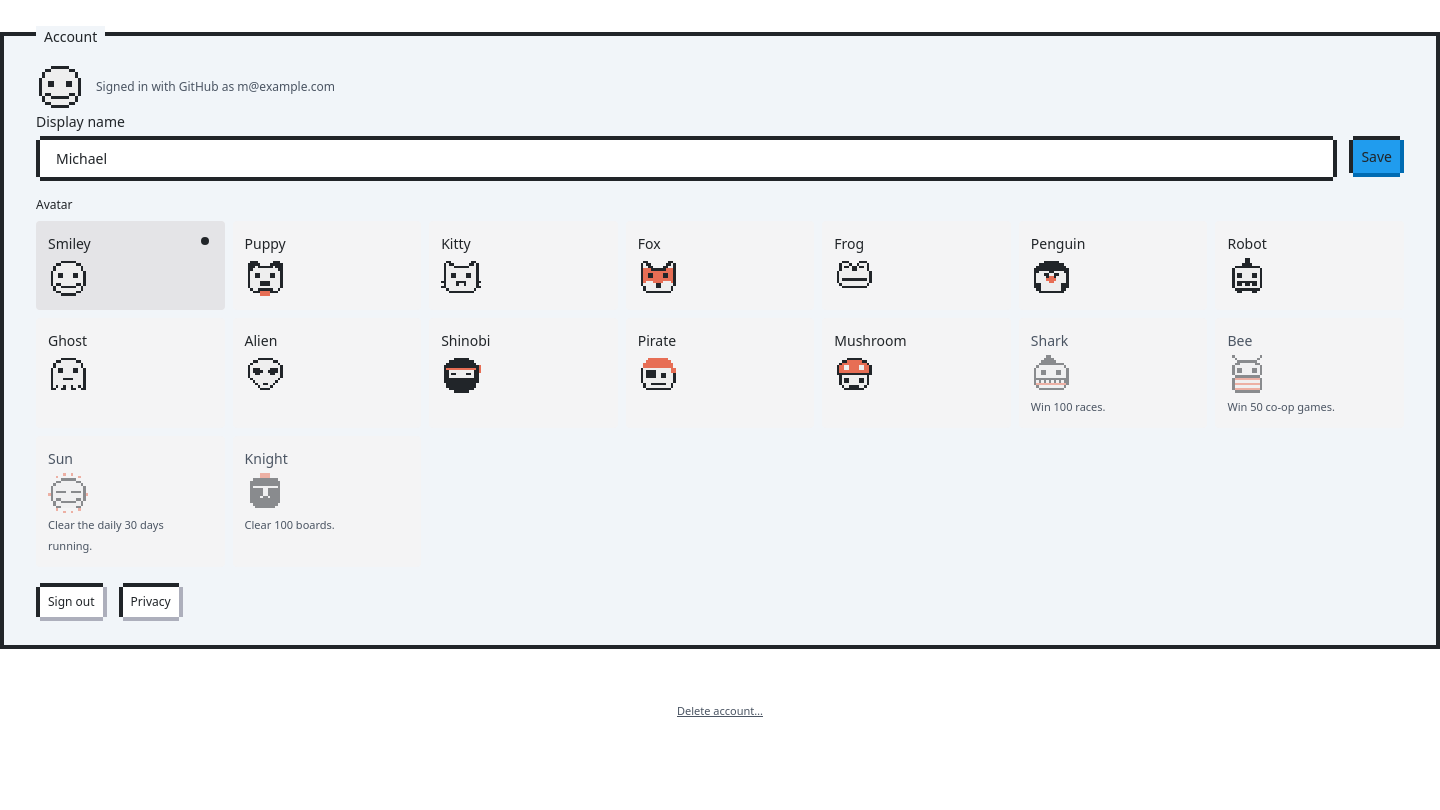
Scenario: surfaces a refused rename without closing anything
The width and height of the screenshot is (1440, 810).
Expected: the field named "Display name" is shown, [40,140,1333,177]
Click the button "Save": [1377, 156] box [1353,140,1400,173]
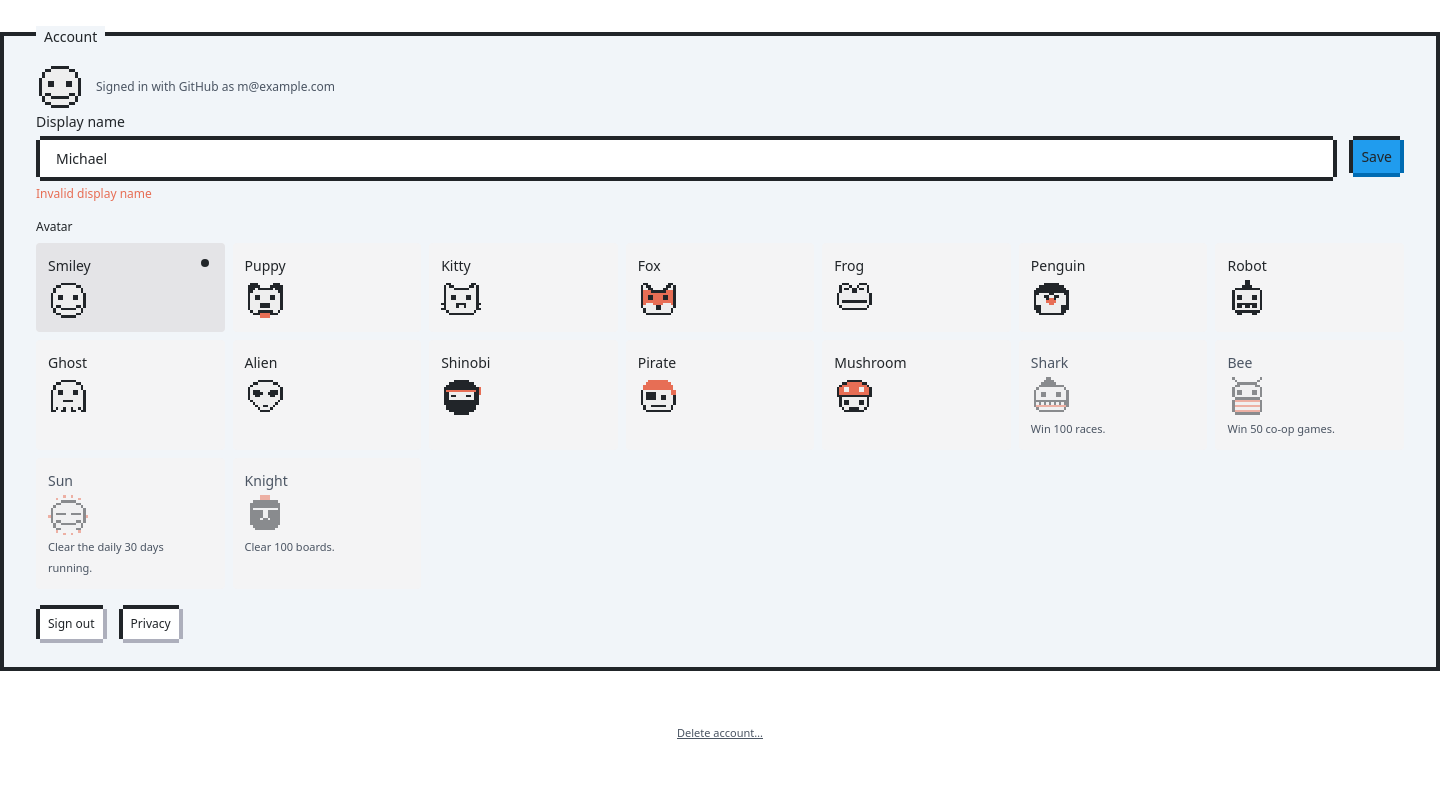
Expected: the message reads "Invalid display name", [36,185,152,202]
